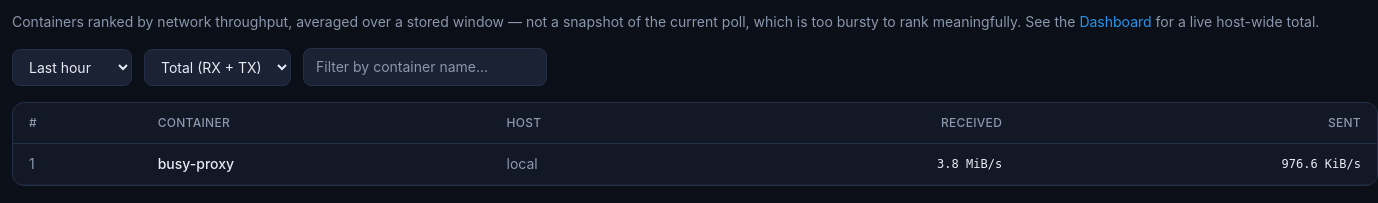
Test: NetworkTab page › ignores a stale response that resolves after a newer selector change
Select "Last hour" in the 1st dropdown at (72, 67), box left=12, top=48, right=132, bottom=86
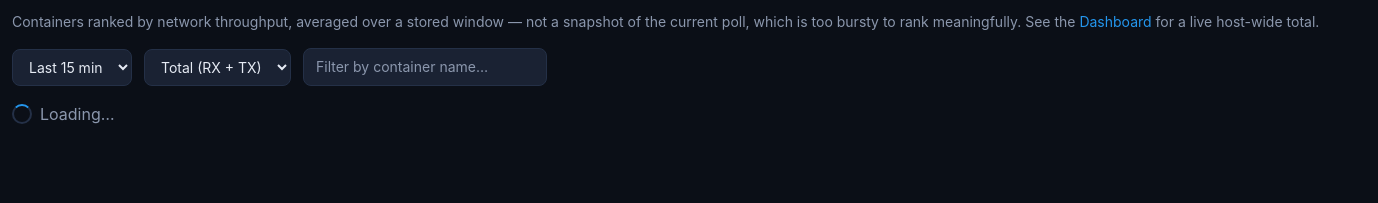
Select "Last 15 min" in the 1st dropdown at (72, 67), box left=12, top=48, right=132, bottom=86
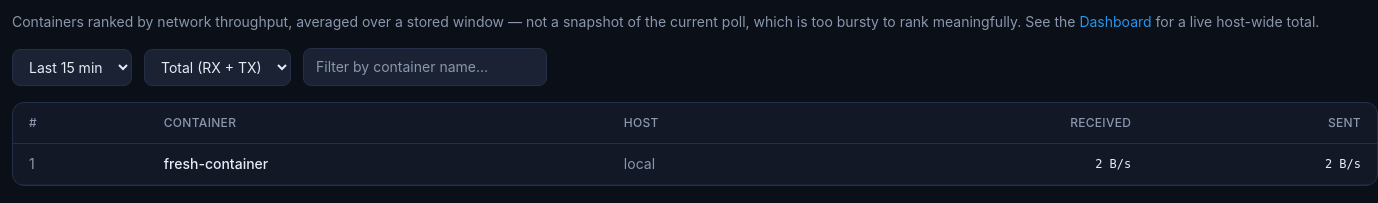
Expected: the text "fresh-container" is shown, left=164, top=155, right=268, bottom=172
